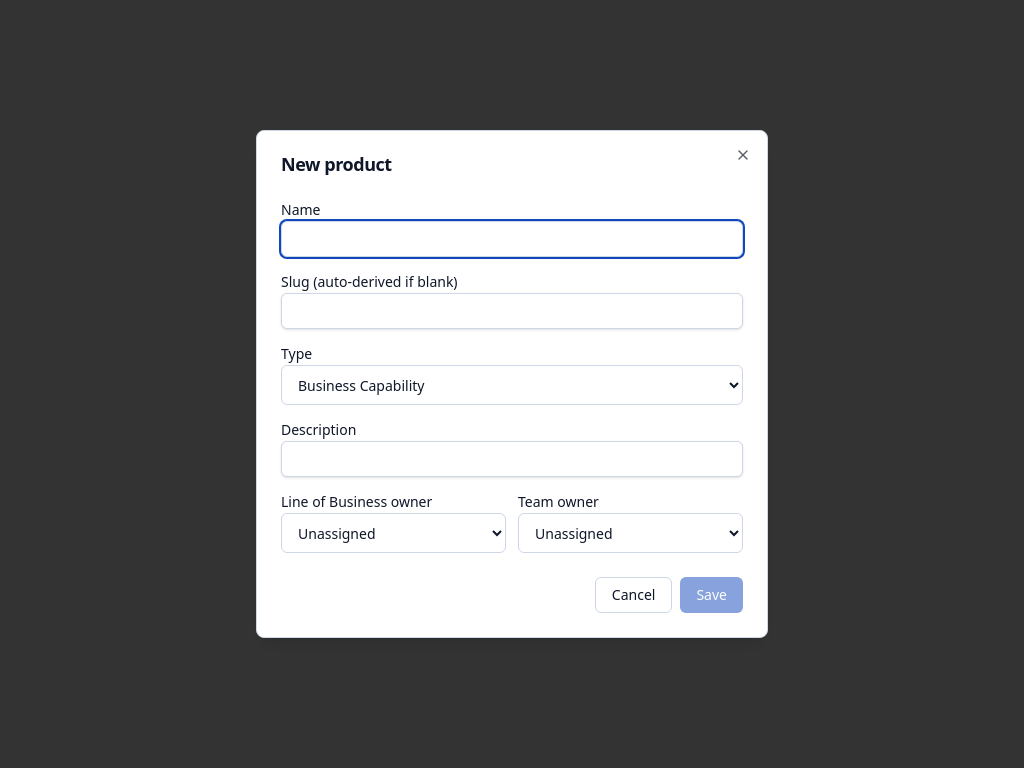
Test case: ProductForm › keeps Save disabled until a name is entered, then submits
The width and height of the screenshot is (1024, 768).
Expected: the button "Save" is disabled, [680,577,743,613]
Type "Payments" into the field labelled "Name" at (512, 239), box [281,221,743,257]
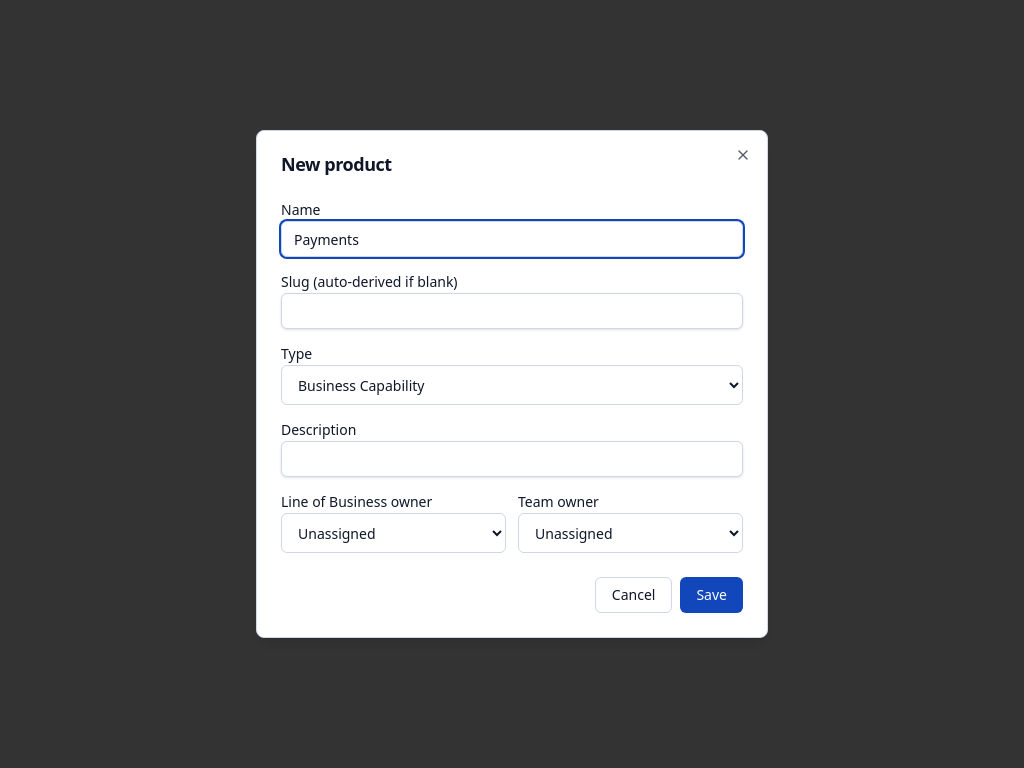
Result: the button "Save" is enabled at [680,577,743,613]
